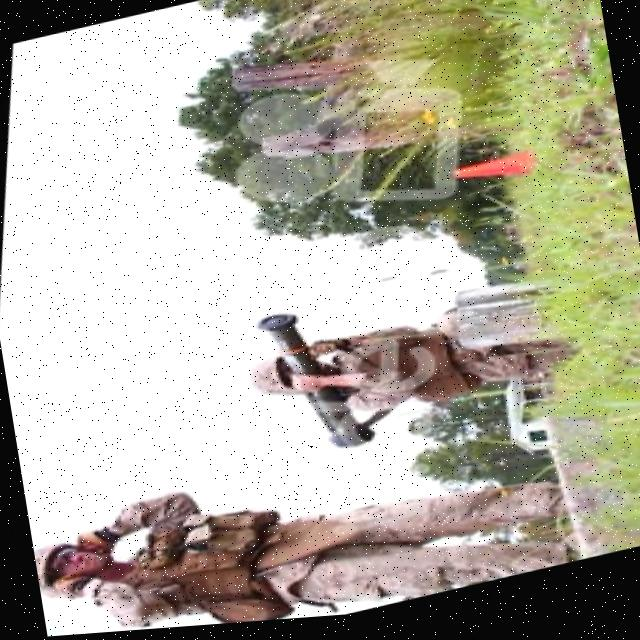rocket: (224, 288, 403, 483)
